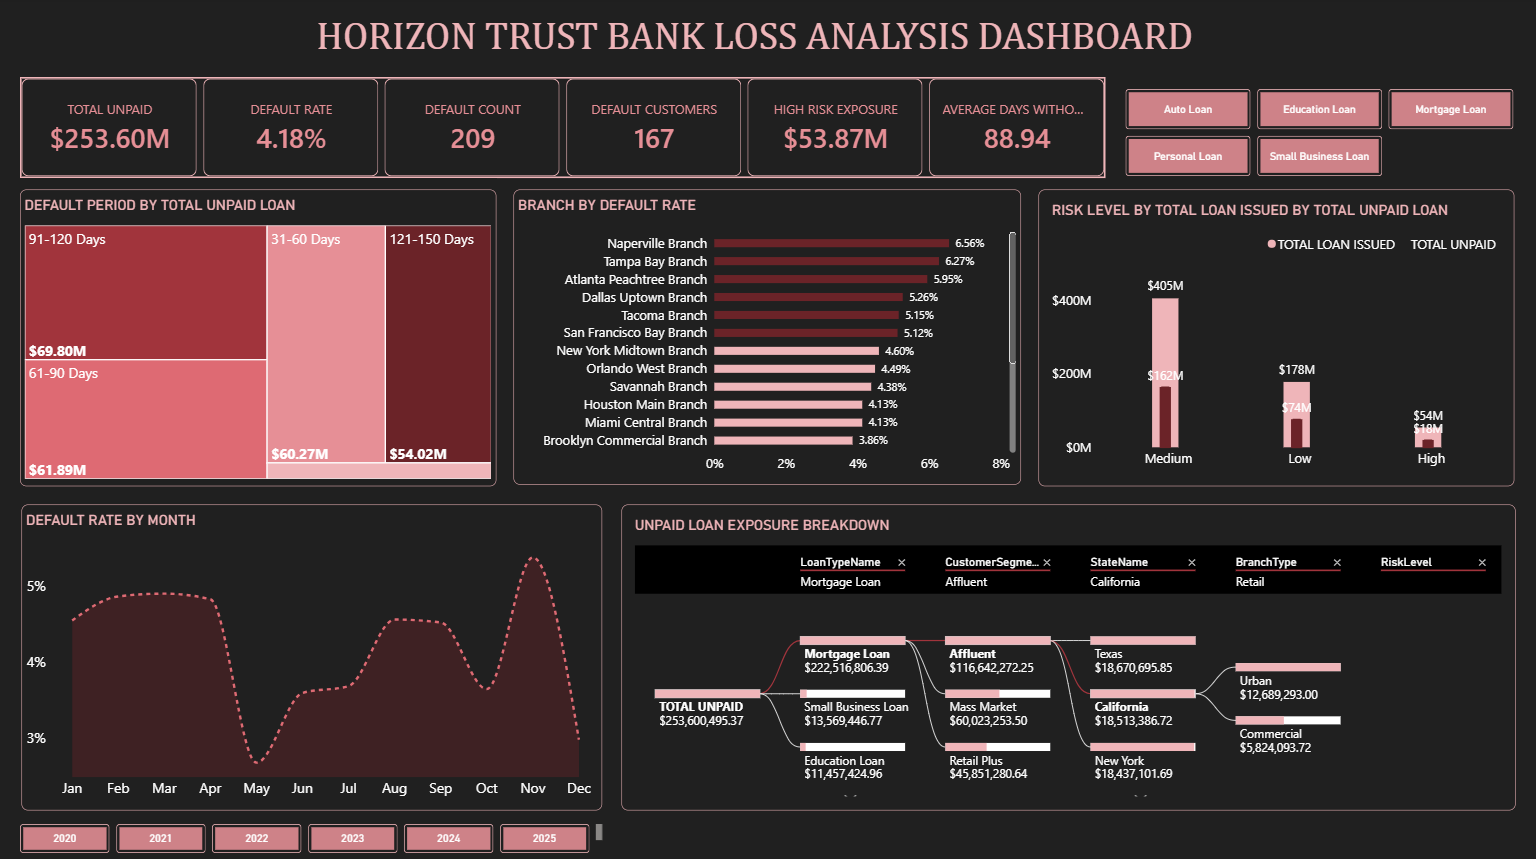

Layout of this report page (visuals, bound fields, positions):
{"tool":"powerbi","page":{"name":"LOSS","canvas":[1920,1080],"ordinal":1},"visuals":[{"type":"cardVisual","fields":{"Data":["MEASURES DIM.TOTAL UNPAID","MEASURES DIM.DEFAULT RATE","MEASURES DIM.DEFAULT COUNT","MEASURES DIM.DEFAULT CUSTOMERS","MEASURES DIM.HIGH RISK EXPOSURE","MEASURES DIM.AVERAGE DAYS WITHOUT PAYMENT"]},"box":[34.1,99.9,1349,125],"z":0},{"type":"treemap","title":"DEFAULT PERIOD BY TOTAL UNPAID LOAN","fields":{"Group":["LOAN FACT.LOAN DEFAULT PERIOD"],"Values":["MEASURES DIM.TOTAL UNPAID"]},"box":[34.1,240.8,590.5,368],"z":1000},{"type":"clusteredBarChart","title":"BRANCH BY DEFAULT RATE","fields":{"Category":["BRANCH DIM.BranchName"],"Y":["MEASURES DIM.DEFAULT RATE"]},"box":[645.1,240.8,629.2,365.7],"z":2000},{"type":"lineClusteredColumnComboChart","title":"RISK LEVEL BY EXPOSURE  AND DEFAULT RATE","fields":{"Category":["LOAN FACT.RiskLevel"],"Y":["MEASURES DIM.TOTAL LOAN ISSUED","MEASURES DIM.TOTAL UNPAID"]},"box":[1296.9,240.8,590,368],"z":3000},{"type":"lineChart","title":"DEFAULT RATE BY MONTH","fields":{"Category":["CALENDER DIM.Month(SF)"],"Y":["MEASURES DIM.DEFAULT RATE"]},"box":[35.3,630.5,720,379.3],"z":4000},{"type":"decompositionTreeVisual","title":"UNPAID LOAN EXPOSURE BREAKDOWN","fields":{"Analyze":["MEASURES DIM.TOTAL UNPAID"],"ExplainBy":["LOAN TYPE DIM.LoanTypeName","CUSTOMER DIM.CustomerSegment","STATE DIM.StateName","BRANCH DIM.BranchType","LOAN FACT.RiskLevel"]},"box":[779.3,630.5,1108.4,379.3],"z":5000},{"type":"advancedSlicerVisual","fields":{"Values":["LOAN TYPE DIM.LoanTypeName"]},"box":[1403.7,115.8,483.8,109],"z":6000},{"type":"advancedSlicerVisual","fields":{"Values":["CALENDER DIM.Year"]},"box":[34.1,1026.6,722.3,36.3],"z":7000},{"type":"textbox","box":[161.3,20.4,1564.9,79.5],"z":8000}]}

Visuals, with their boxes in screenshot pixels (x1, y1, x2, y2), scaled from the page's 1920x1080 canvas onto the 1536x859 screenshot:
cardVisual - MEASURES DIM.TOTAL UNPAID x MEASURES DIM.DEFAULT RATE: l=27, t=79, r=1106, b=179
"DEFAULT PERIOD BY TOTAL UNPAID LOAN" treemap: l=27, t=192, r=500, b=484
"BRANCH BY DEFAULT RATE" clusteredBarChart: l=516, t=192, r=1019, b=482
"RISK LEVEL BY EXPOSURE  AND DEFAULT RATE" lineClusteredColumnComboChart: l=1038, t=192, r=1510, b=484
"DEFAULT RATE BY MONTH" lineChart: l=28, t=501, r=604, b=803
"UNPAID LOAN EXPOSURE BREAKDOWN" decompositionTreeVisual: l=623, t=501, r=1510, b=803
advancedSlicerVisual - LOAN TYPE DIM.LoanTypeName: l=1123, t=92, r=1510, b=179
advancedSlicerVisual - CALENDER DIM.Year: l=27, t=817, r=605, b=845
textbox: l=129, t=16, r=1381, b=79
